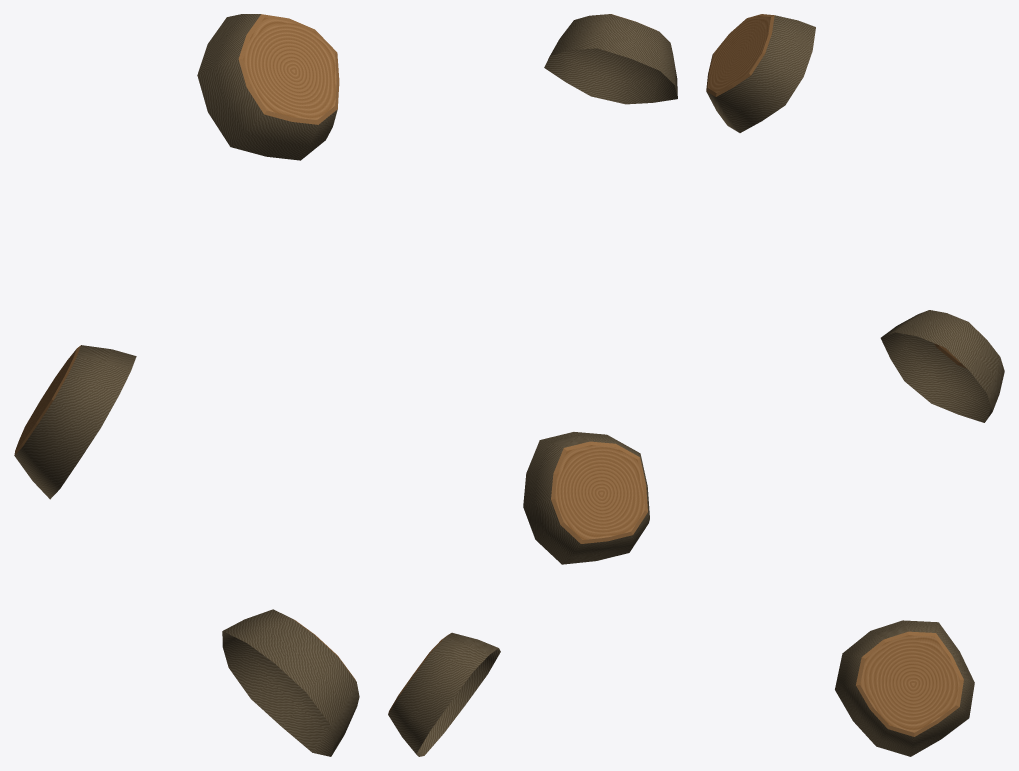
The model's file is Sessile_Oak_Mature_02_LowPruned_Recent_LOD2.fbx.
3 renders of one model, left to right at view 1: azimuth 30°, elevation 25°; view 2: azimuth 150°, elevation 25°; view 3: azimuth 270°, elevation 25°, orthographic. The views are drawn at different scales.
Visible parts, largest first — view 1: Sessile_Oak_Mature_02_LowPruned_Recent_LOD2_Scars; view 2: Sessile_Oak_Mature_02_LowPruned_Recent_LOD2_Scars; view 3: Sessile_Oak_Mature_02_LowPruned_Recent_LOD2_Scars.
Part boxes in pixels (<box>): Sessile_Oak_Mature_02_LowPruned_Recent_LOD2_Scars: <box>14,14,359,756</box>; Sessile_Oak_Mature_02_LowPruned_Recent_LOD2_Scars: <box>388,14,677,756</box>; Sessile_Oak_Mature_02_LowPruned_Recent_LOD2_Scars: <box>706,14,1004,756</box>.
Size of what is drawn, in the model's own units: 63.96 by 165 by 65.08.
2 materials, 2 textured.
